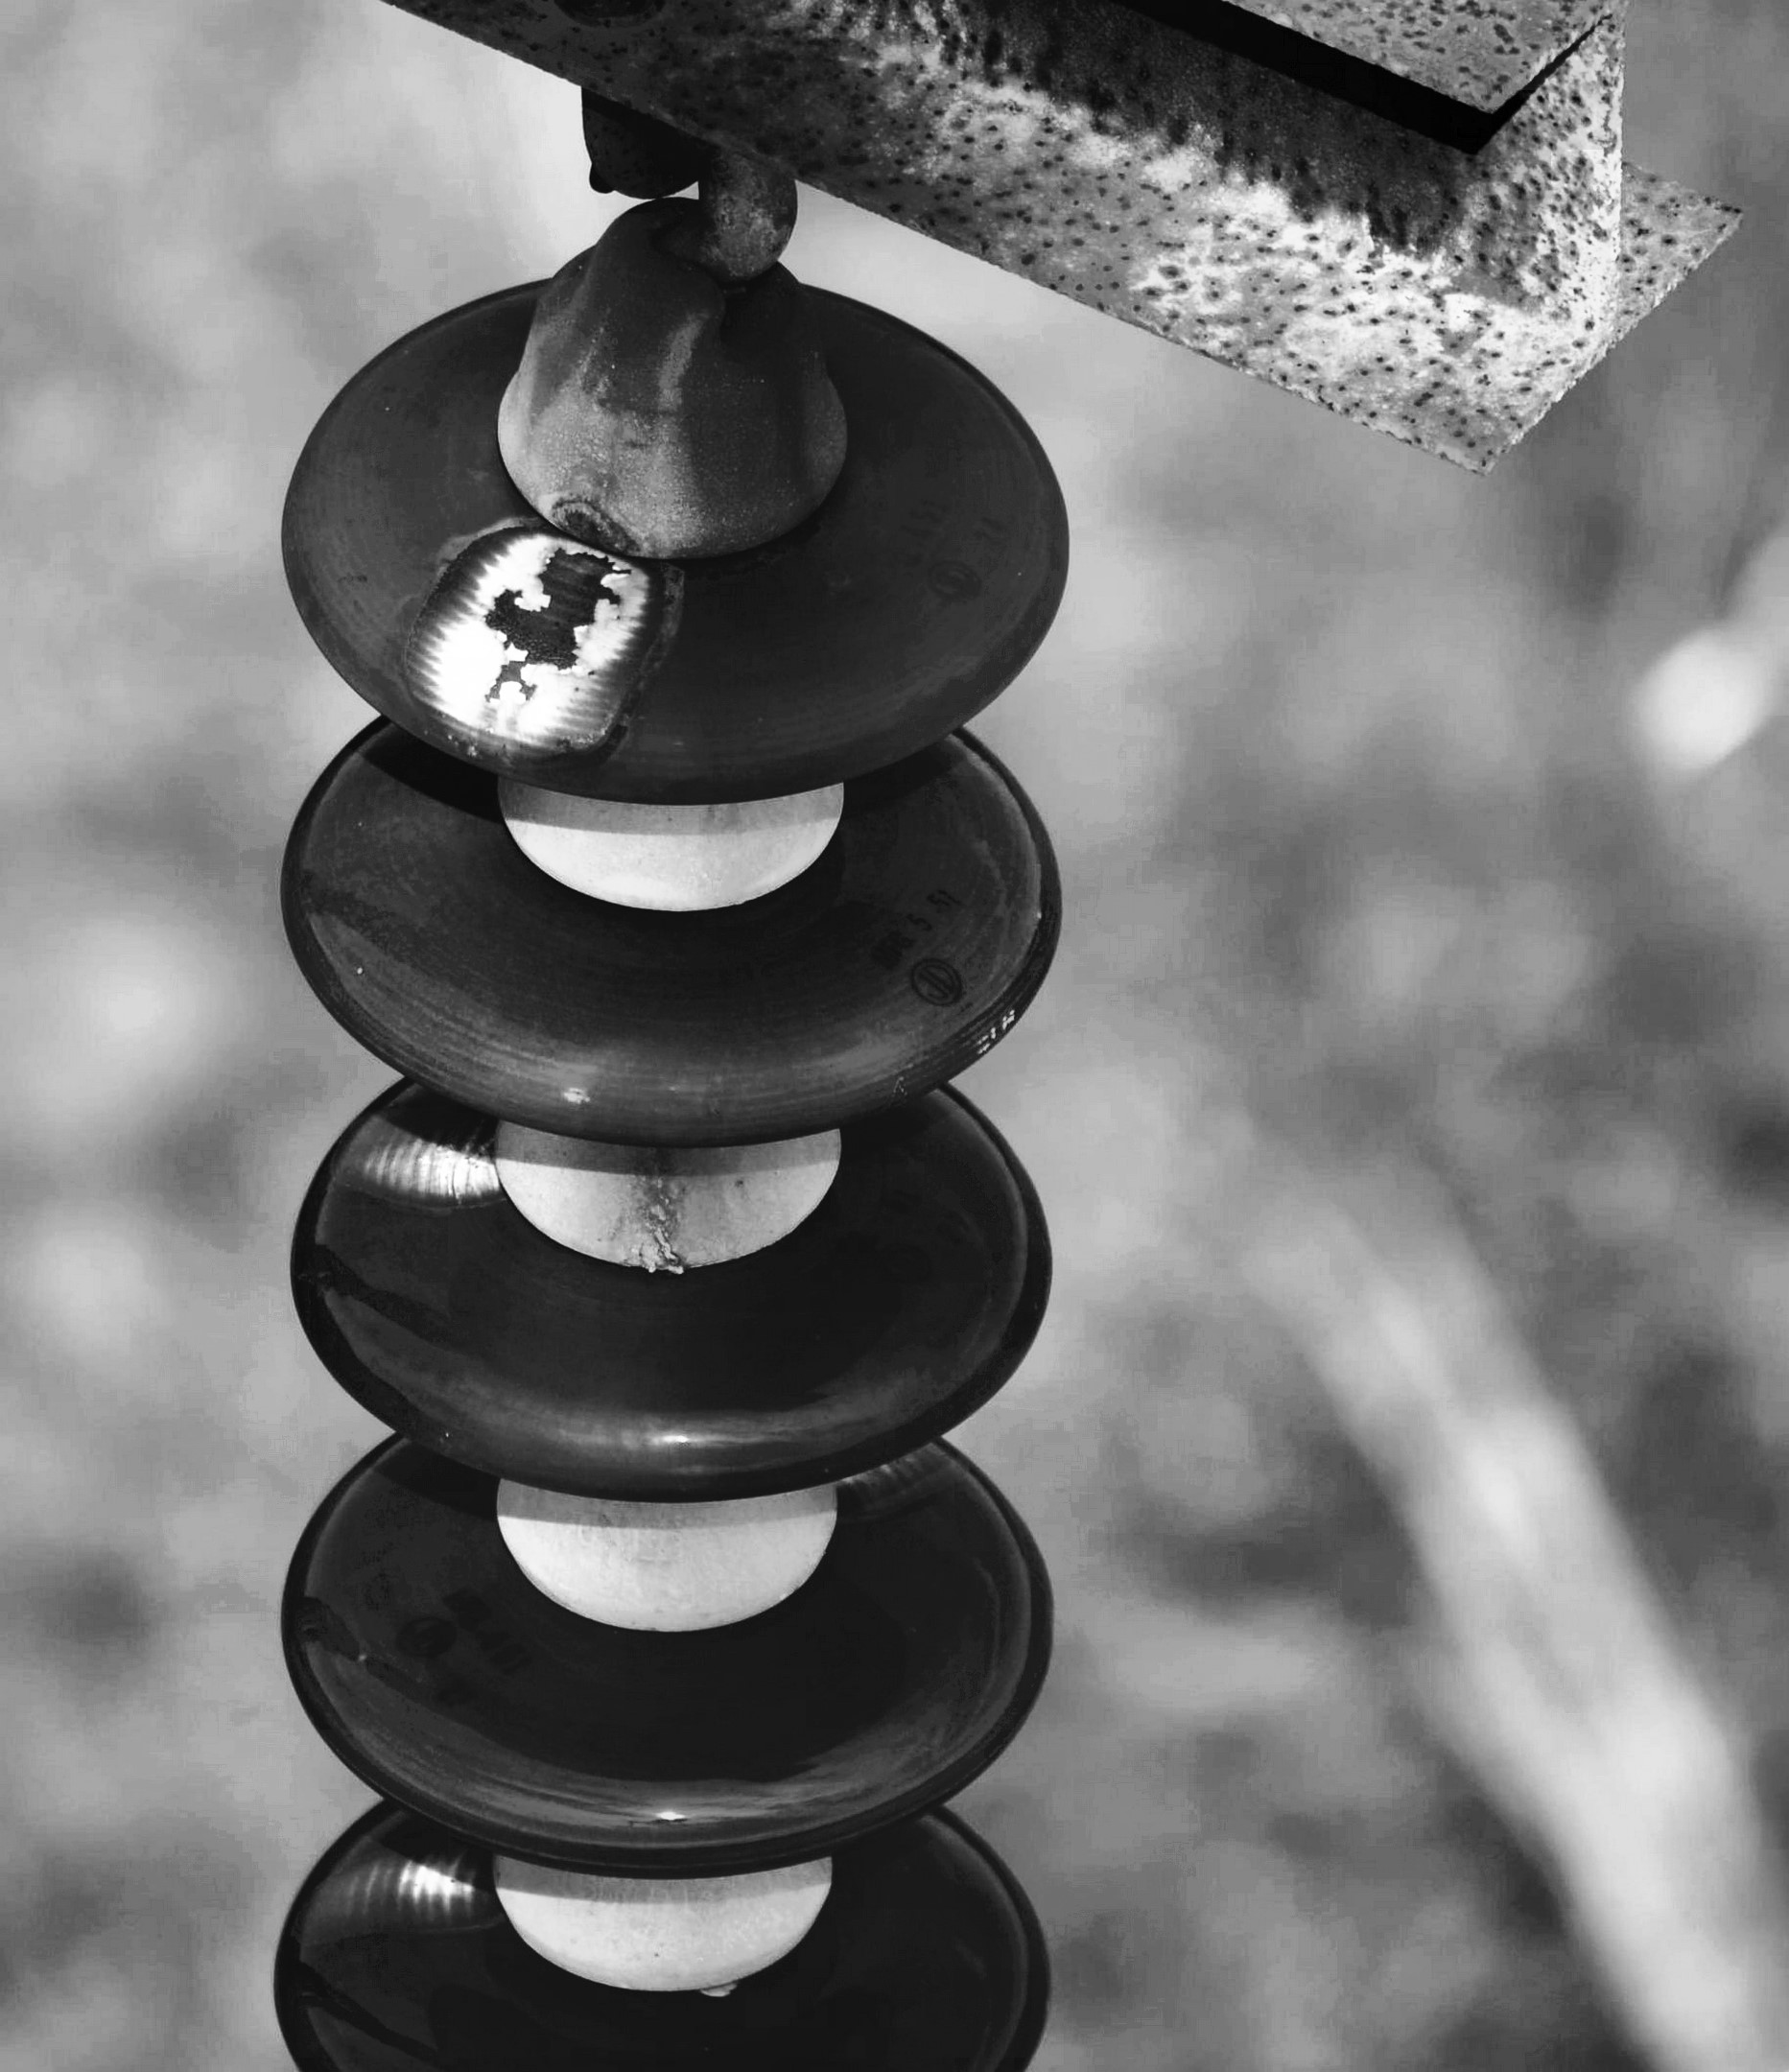Insulator flashover: (256, 247, 1079, 809)
